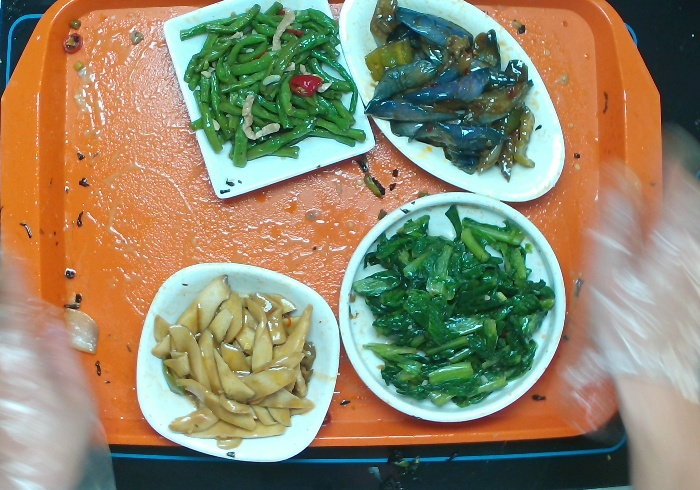HZYJPL-Si_Fang_Die: (153, 1, 385, 206)
HZYJPL-Si_Fang_Yuan_Die: (124, 252, 349, 468)
HZYJPL-Xiao_Yu_Die: (331, 1, 579, 207)
HZYJPL-Xiao_Yuan_Die: (337, 187, 578, 429)
